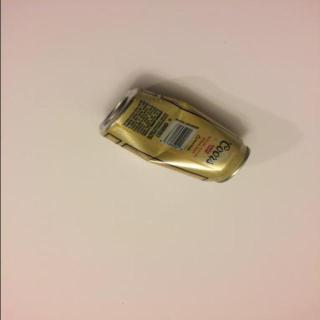Anorganik: (89, 87, 259, 186)
